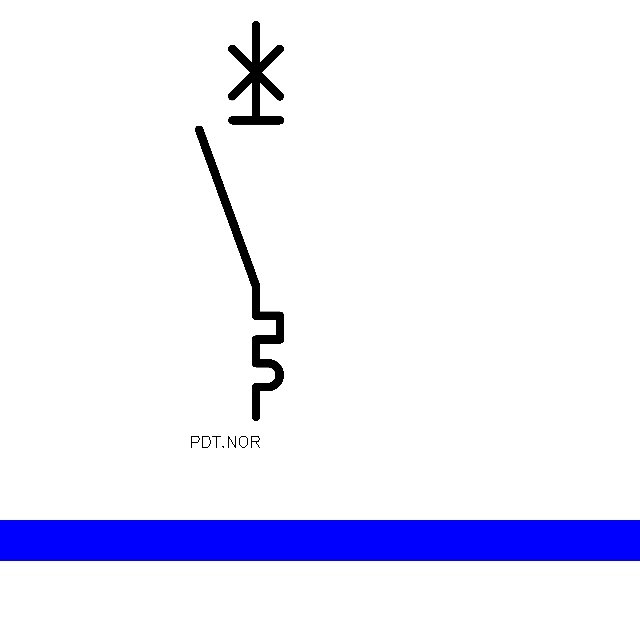interruptor_termomagnetico: (189, 15, 290, 427)
